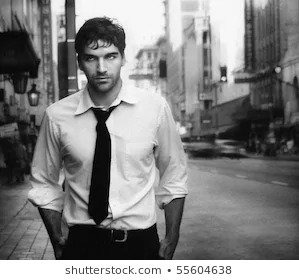F_shirt: (29, 80, 187, 230)
F_tie: (88, 106, 114, 221)
